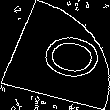O_W: (16, 26, 94, 84)
